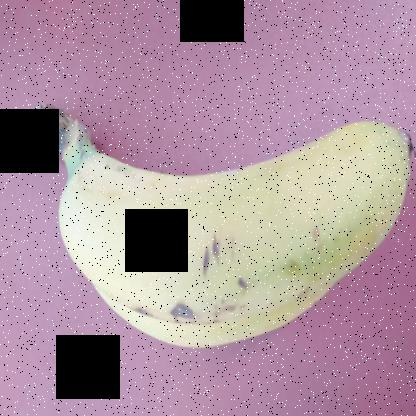ripe: (65, 96, 407, 331)
